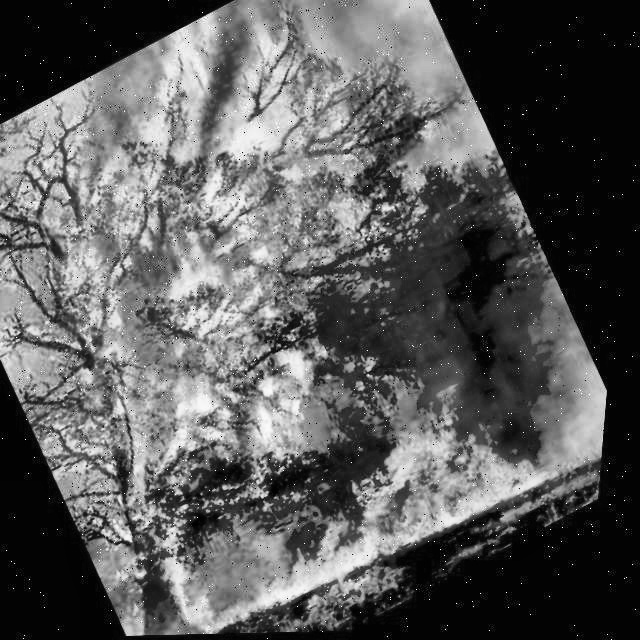Fire: (0, 0, 503, 548), (131, 330, 591, 637)
